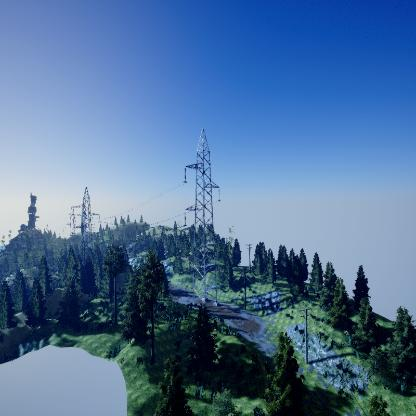tower: (182, 128, 222, 315), (68, 185, 103, 256)
